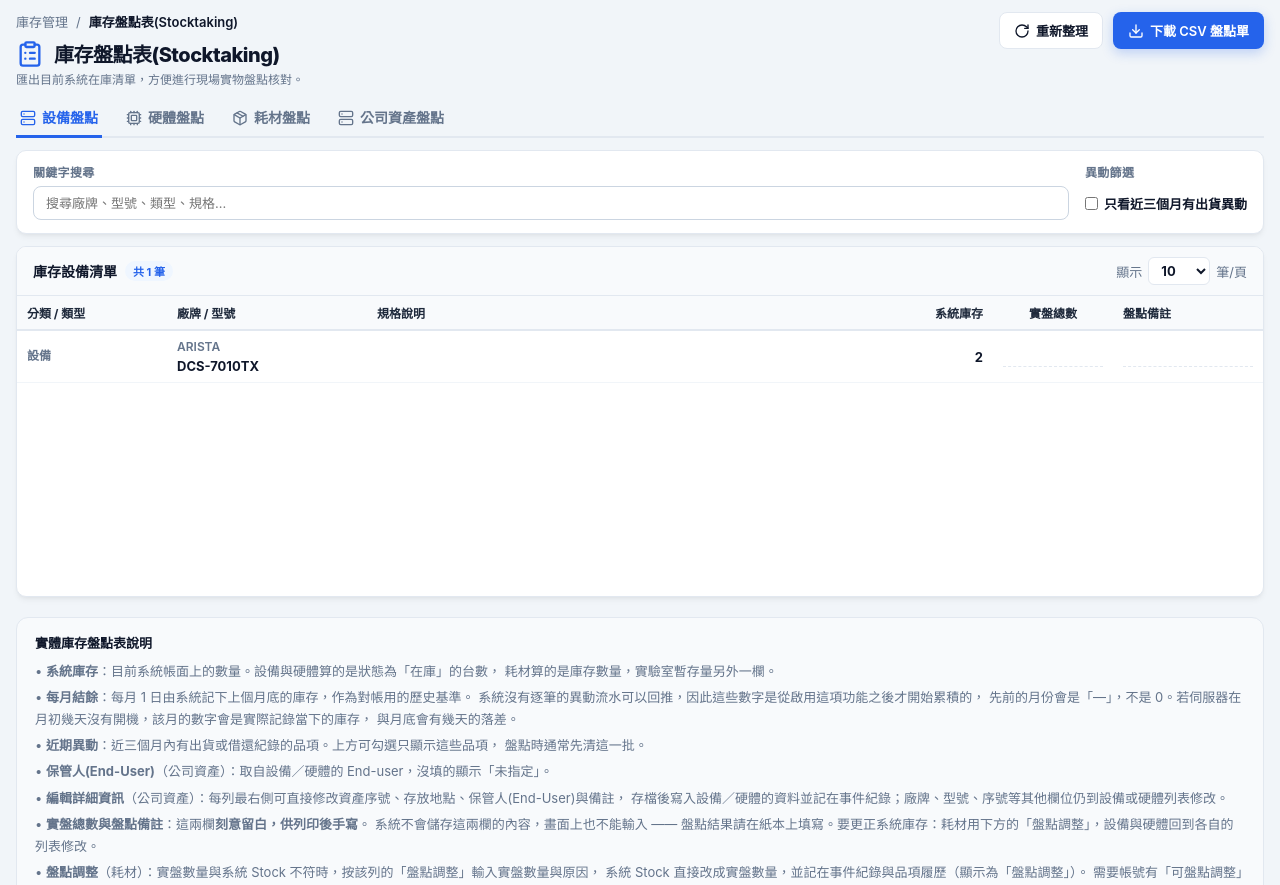
it: 公司資產盤點：保管人 › 保管人欄排在存放地點後面、實盤總數前面
The image size is (1280, 885).
Click the text "公司資產盤點": (391, 118) [338,109,444,126]
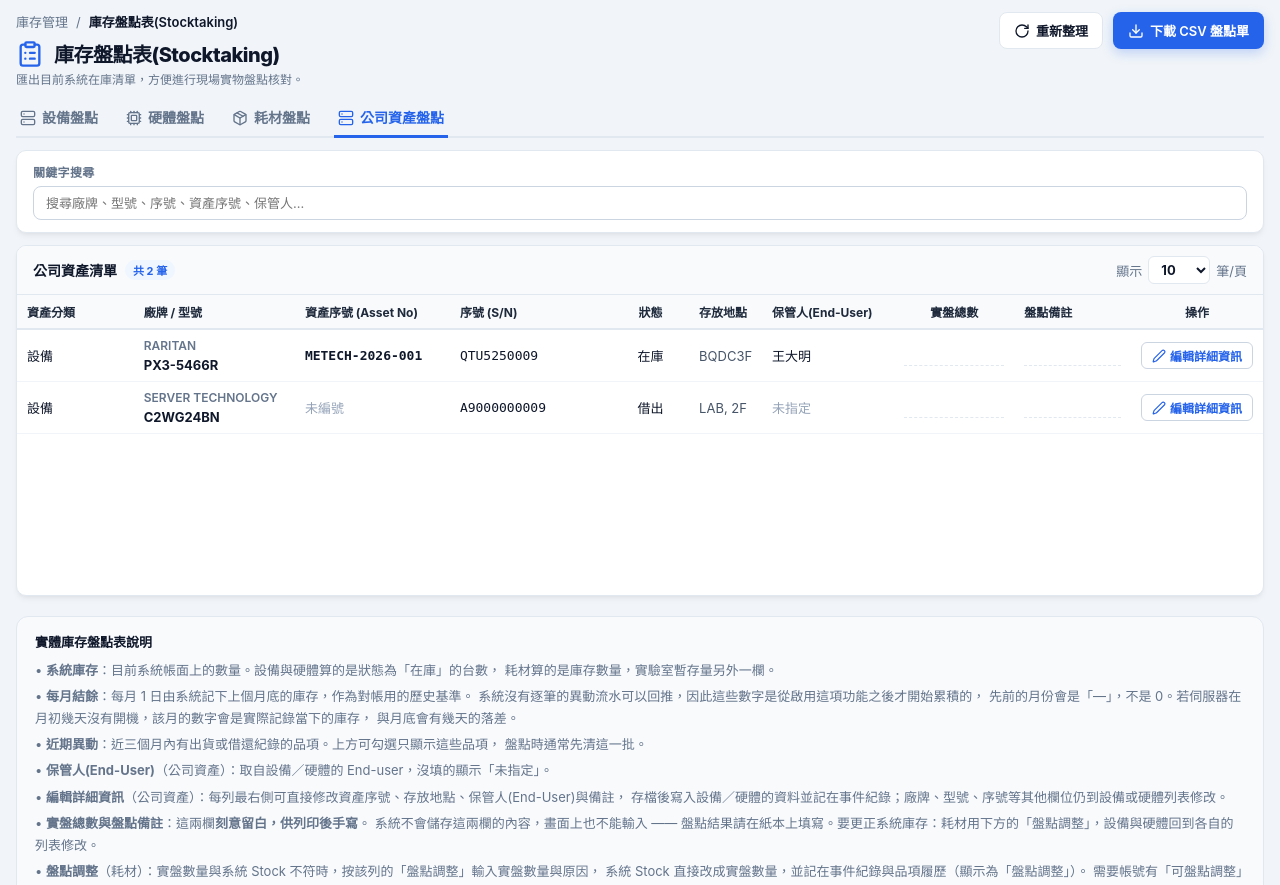
Expected: the text "QTU5250009" is shown, [450,329,612,382]
Expected: the cell "王大明" is shown, [762,329,894,382]
